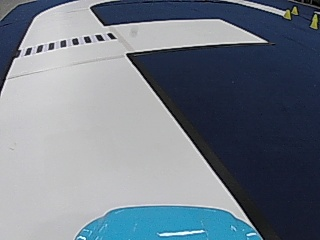CrossWalk: (20, 31, 117, 56)
